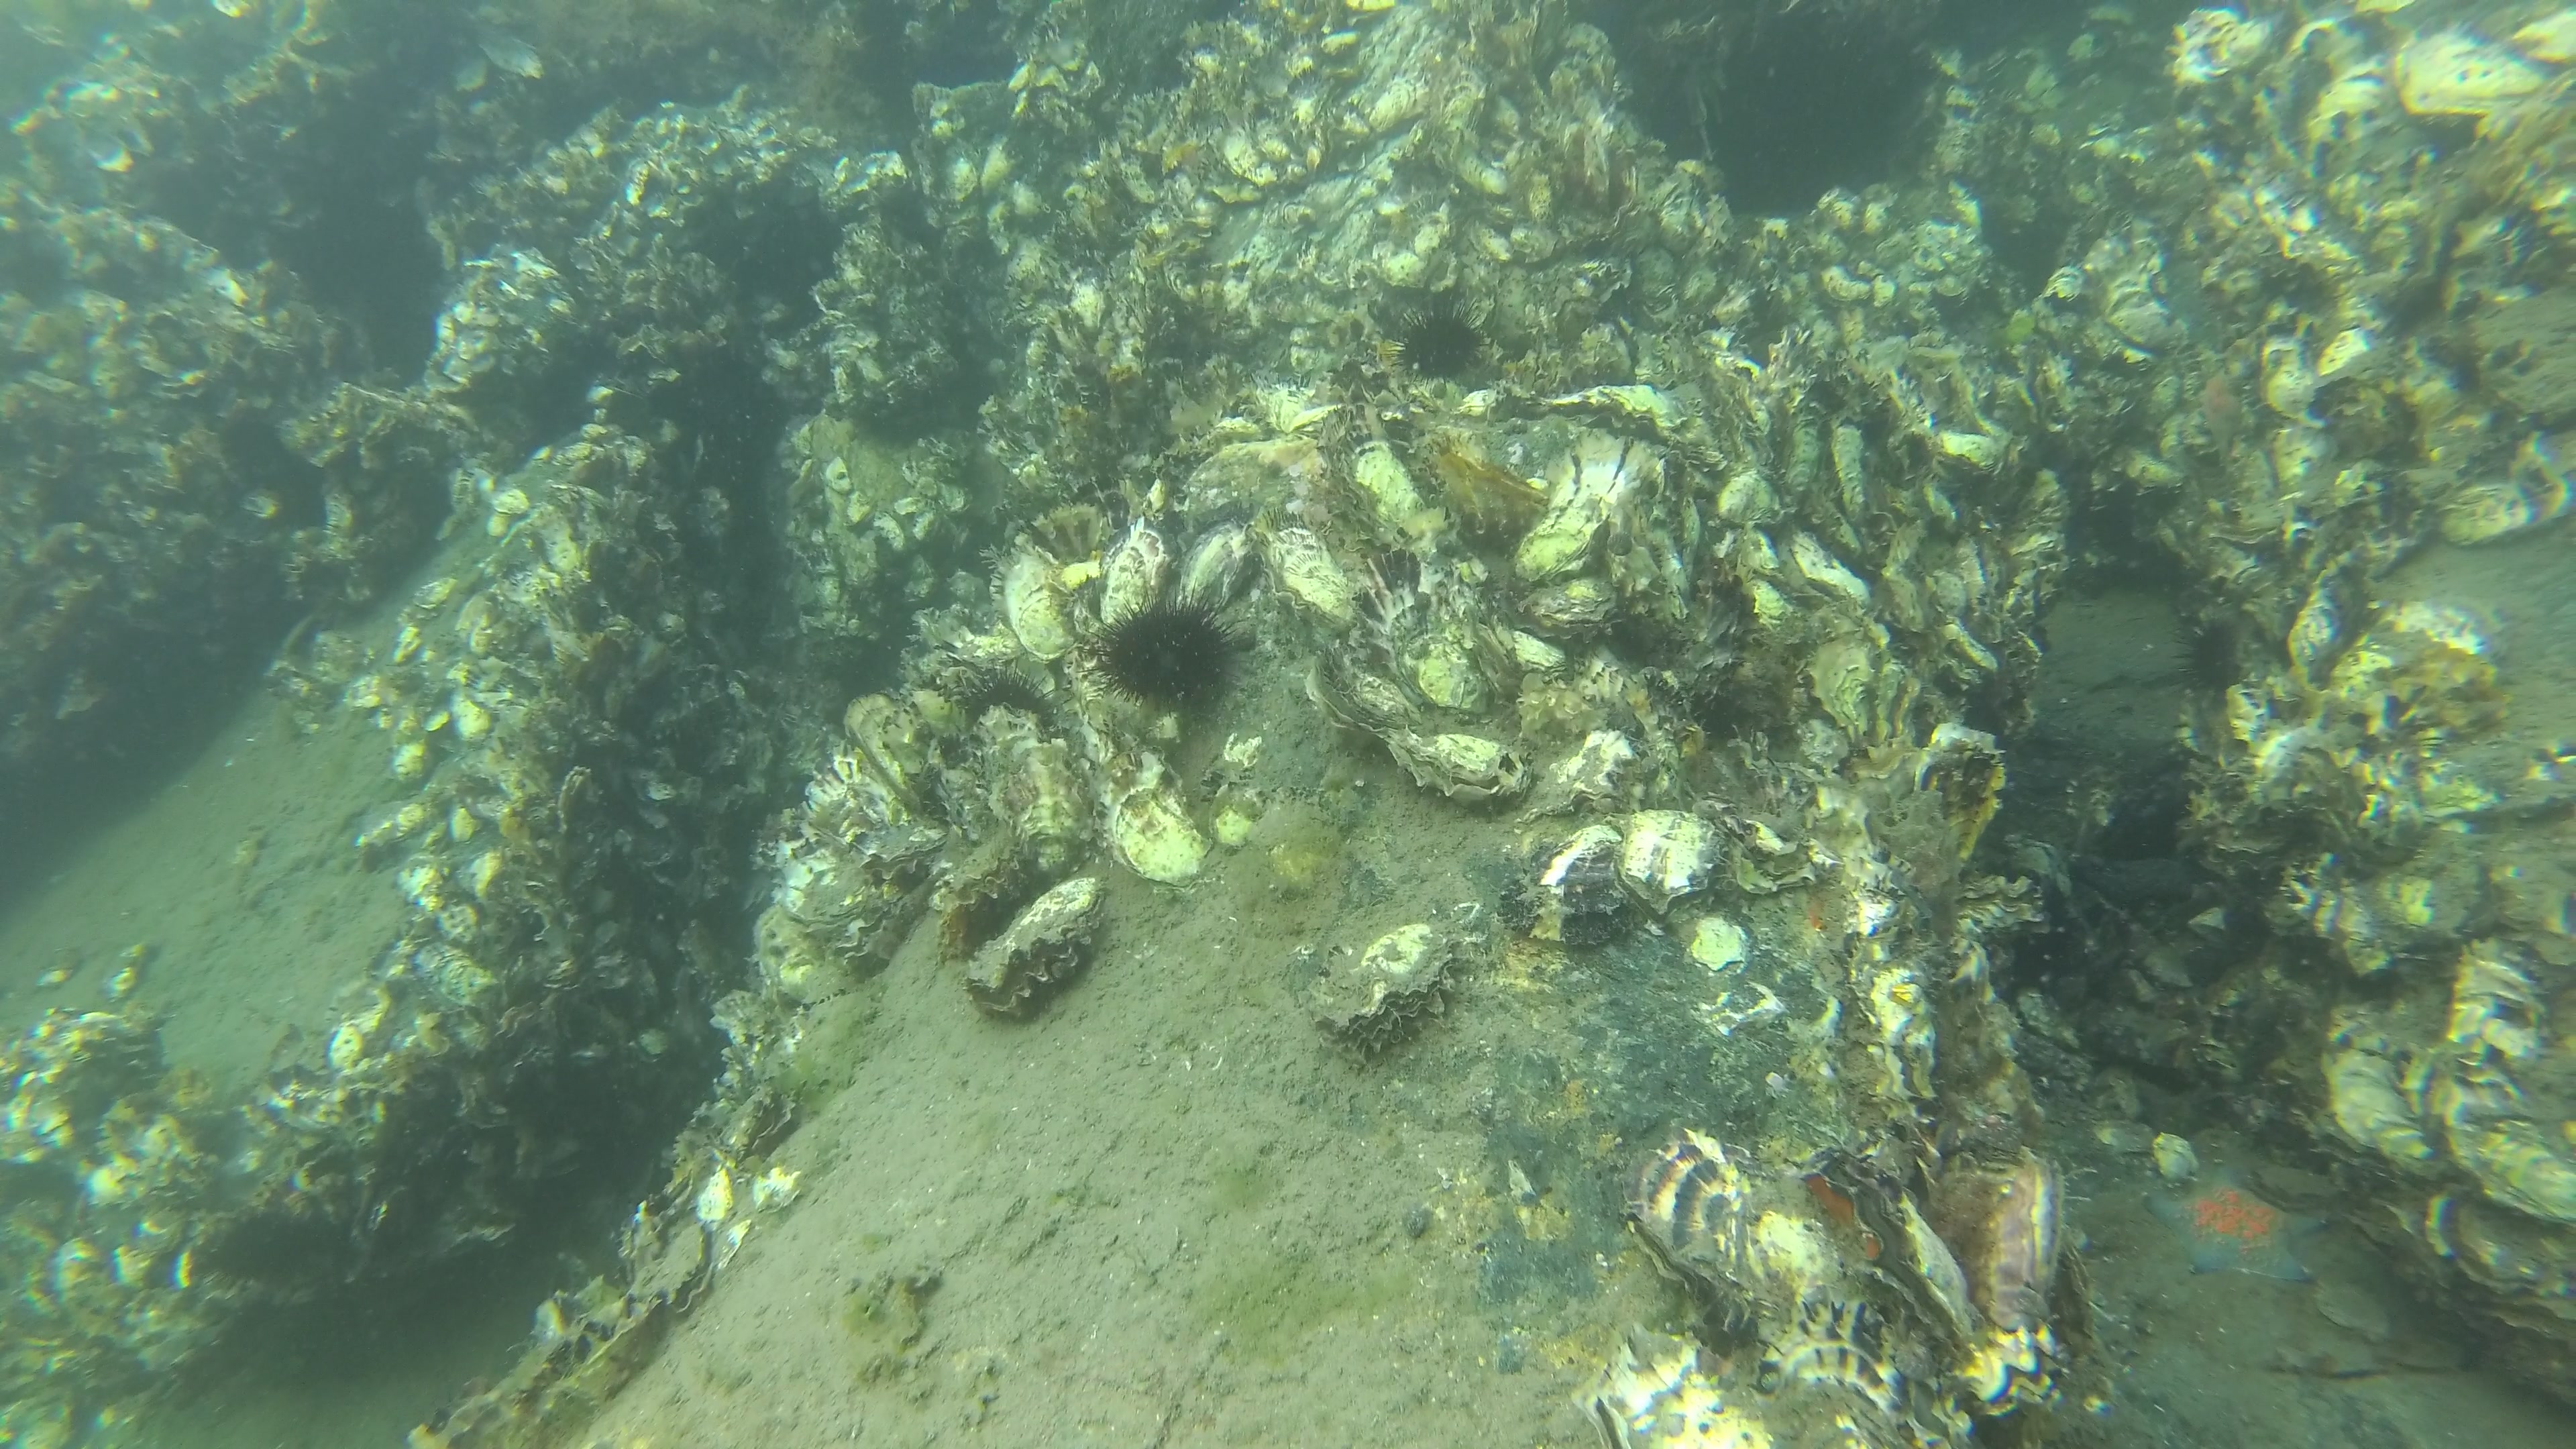echinus: (1090, 575, 1256, 725), (1382, 283, 1506, 393)
starfish: (2139, 1161, 2344, 1295)
